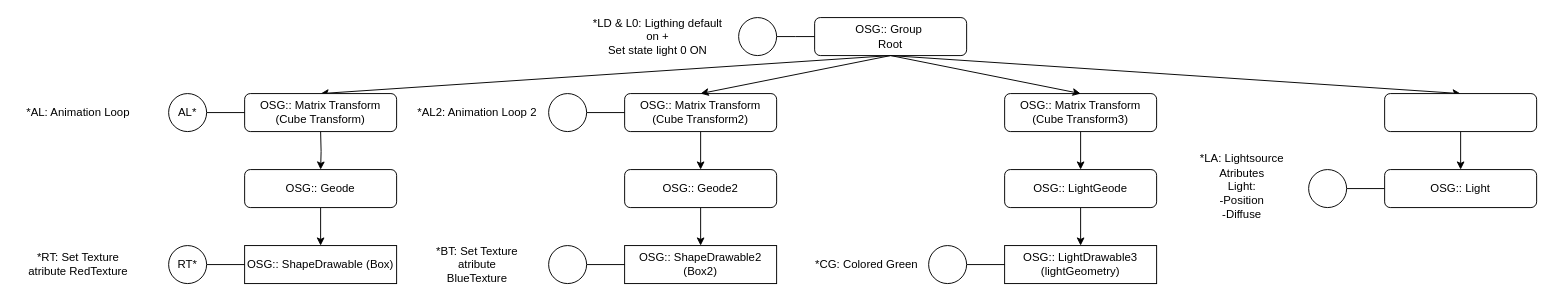
The diagram is 1553 pixels wide and 301 high, and some of its shapes have lost their labels. Here are the shapes that lost their labels. From the top down, the box of each, then its label:
(738, 17, 777, 56): LD & L0*
(548, 93, 587, 132): AL2*
(1384, 93, 1537, 132): OSG:: LightSource
(1308, 169, 1347, 208): LA*
(548, 245, 587, 284): BT*
(928, 245, 967, 284): CG*
